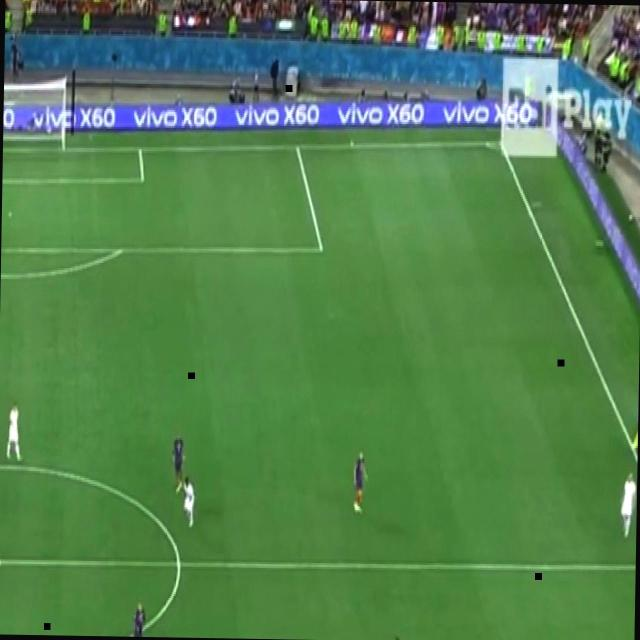ball: (627, 210, 634, 222)
player-white: (618, 469, 638, 539), (351, 449, 369, 516), (5, 401, 23, 463), (171, 432, 187, 496), (124, 599, 146, 637), (182, 476, 196, 530), (630, 394, 638, 460)
